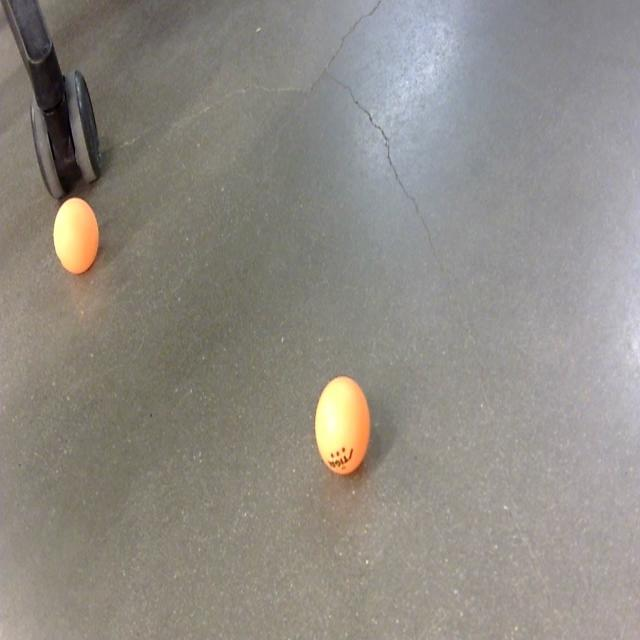ball: (314, 371, 372, 477), (52, 194, 100, 276)
